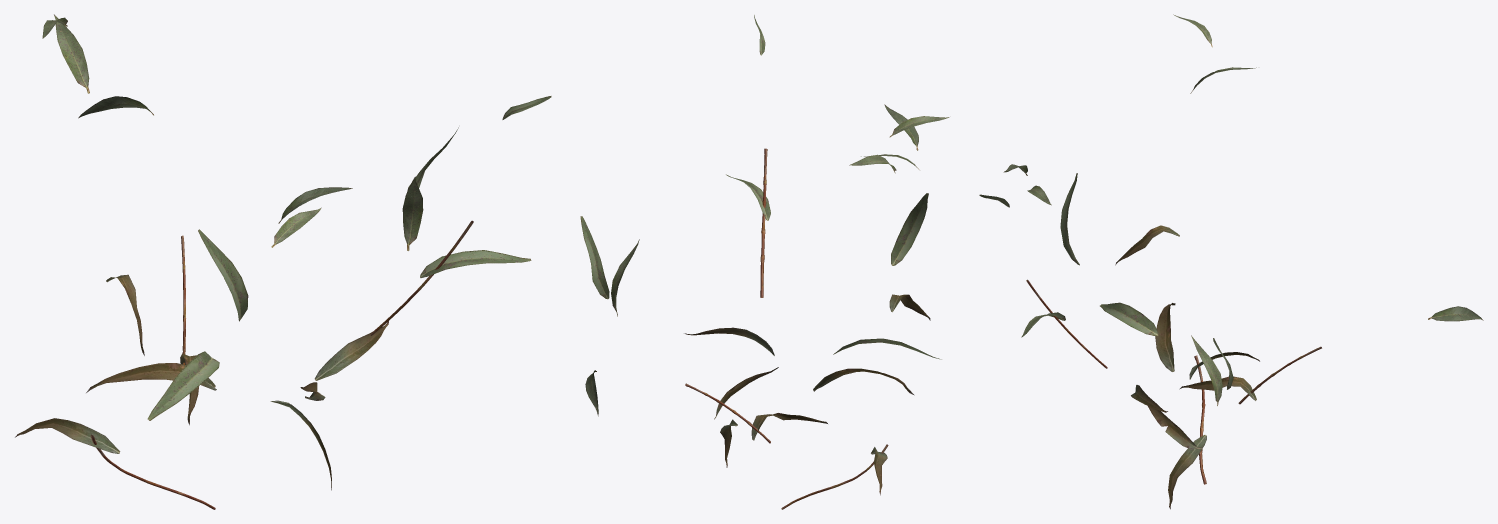
File: shrub_wiry.gltf
3 renders of one model, left to right at view 1: azimuth 30°, elevation 25°; view 2: azimuth 150°, elevation 25°; view 3: azimuth 270°, elevation 25°, orthographic. The views are drawn at different scales.
Parts seen in each view (by area): view 1: shrub_wiry; view 2: shrub_wiry; view 3: shrub_wiry.
Part boxes in pixels (x1,y1,x2,y2): shrub_wiry: (15,14,551,509); shrub_wiry: (580,15,949,509); shrub_wiry: (979,14,1483,509).
Size of the model in its own units: 1.22 by 1.4 by 1.6.
1 material, 1 textured.
